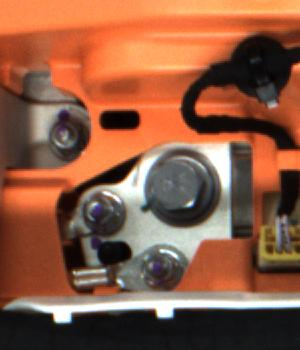nut_b: (142, 147, 226, 227)
screw_s: (140, 246, 180, 289), (84, 191, 124, 229), (45, 119, 79, 153)
